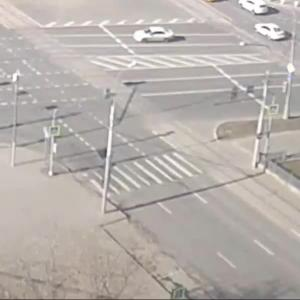car: (130, 27, 178, 46), (254, 20, 285, 43), (236, 1, 275, 18)
